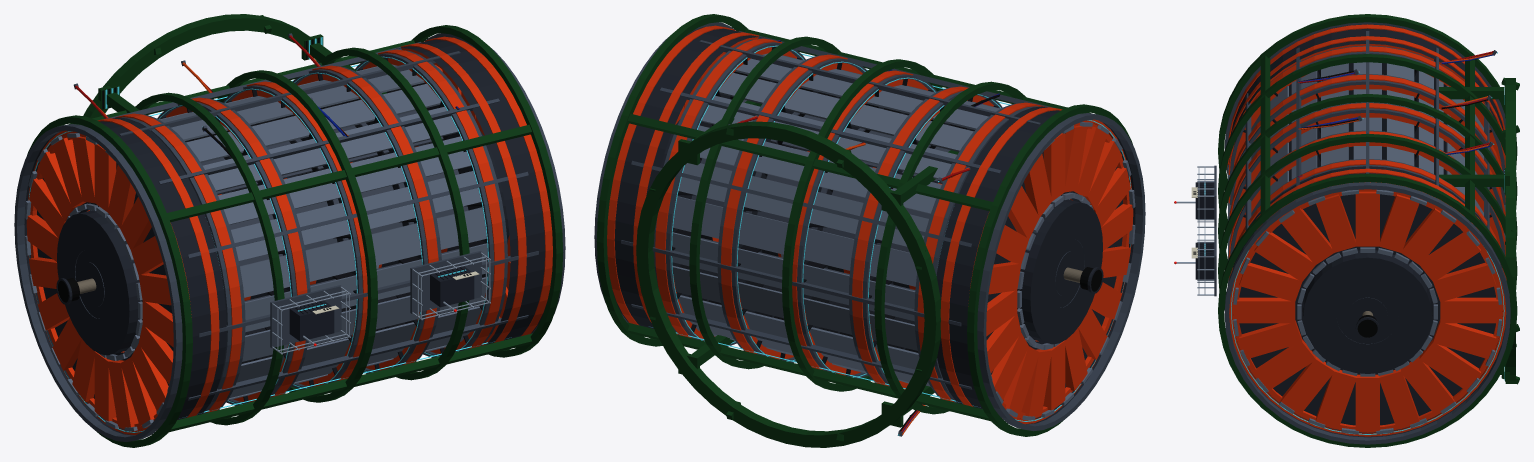
Rendered from cms_rig.obj.
The picture shows the model from 3 angles, left to right: view 1: azimuth 30°, elevation 25°; view 2: azimuth 150°, elevation 25°; view 3: azimuth 270°, elevation 25°; orthographic projection. The views are drawn at different scales.
Parts seen in each view (by area): view 1: p_hub, n_sh, p_sh, p_rim, cr_hp4, cr_hp2, cr_hp0, cr_hp1, cr_hp3, cr_br, mb_co0, cr_lg1 (+80 smaller); view 2: cr_br, p_hub, p_sh, p_rim, n_sh, cr_hp4, cr_hp0, cr_hp2, cr_hp1, cr_hp3, mb_co1, mb_co3 (+78 smaller); view 3: n_hub, n_bk, n_rim, cr_hp0, n_cb1, cr_hp3, cr_hp2, cr_hp4, cr_hp1, mb_co2, p_sh, mb_co3 (+51 smaller).
Part boxes in pixels (x1,y1,x2,y2): p_hub: (57, 210, 140, 355); n_sh: (396, 38, 546, 344); p_sh: (24, 117, 226, 435); p_rim: (14, 124, 182, 441); cr_hp4: (27, 115, 192, 447); cr_hp2: (217, 70, 377, 402); cr_hp0: (411, 25, 563, 357); cr_hp1: (319, 47, 469, 380); cr_hp3: (135, 92, 284, 425); cr_br: (83, 14, 319, 118); mb_co0: (363, 49, 504, 353); cr_lg1: (167, 124, 532, 222); cr_br: (636, 121, 940, 447); p_hub: (1019, 199, 1102, 344); p_sh: (936, 106, 1135, 424); p_rim: (977, 113, 1145, 431); n_sh: (613, 27, 763, 328); cr_hp4: (967, 104, 1132, 436); cr_hp0: (596, 14, 748, 346); cr_hp2: (782, 59, 942, 391); cr_hp1: (689, 36, 840, 369); cr_hp3: (874, 81, 1025, 414); mb_co1: (721, 54, 862, 359); mb_co3: (852, 86, 993, 389); n_hub: (1303, 252, 1431, 373); n_bk: (1234, 194, 1502, 433); n_rim: (1224, 182, 1510, 444); cr_hp0: (1218, 173, 1517, 447); n_cb1: (1229, 182, 1506, 436); cr_hp3: (1218, 54, 1517, 230); cr_hp2: (1218, 94, 1517, 270); cr_hp4: (1218, 14, 1517, 190); cr_hp1: (1218, 133, 1517, 310); mb_co2: (1229, 103, 1505, 216); p_sh: (1228, 24, 1503, 166); mb_co3: (1228, 74, 1505, 203).
Bounding box in the file's own units: 25.24 × 16.7 × 18.85.
